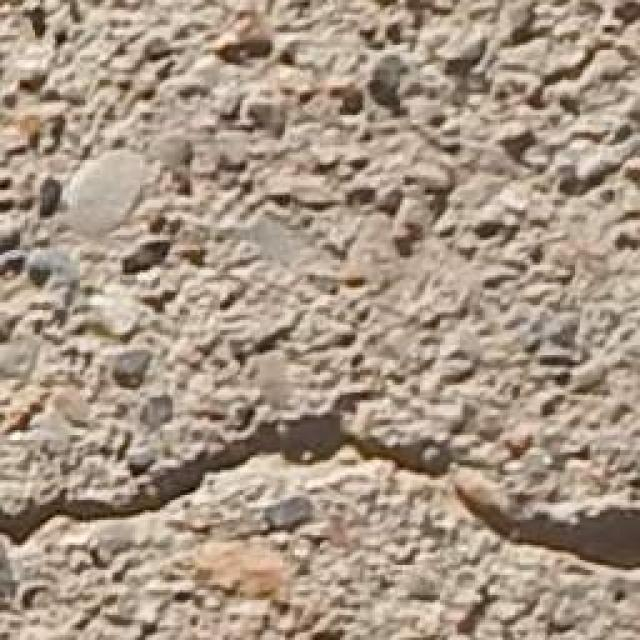concrete-crack: (0, 380, 640, 593)
